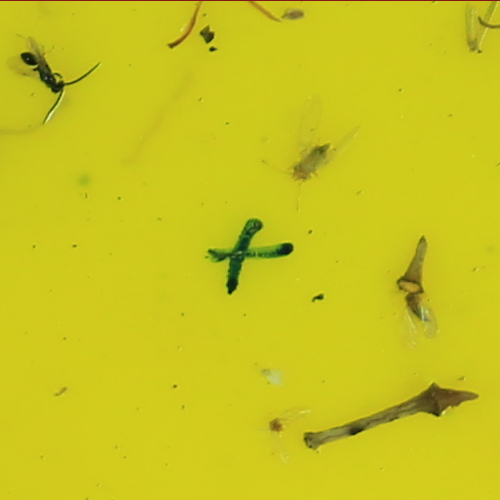psylla: (290, 137, 332, 182)
